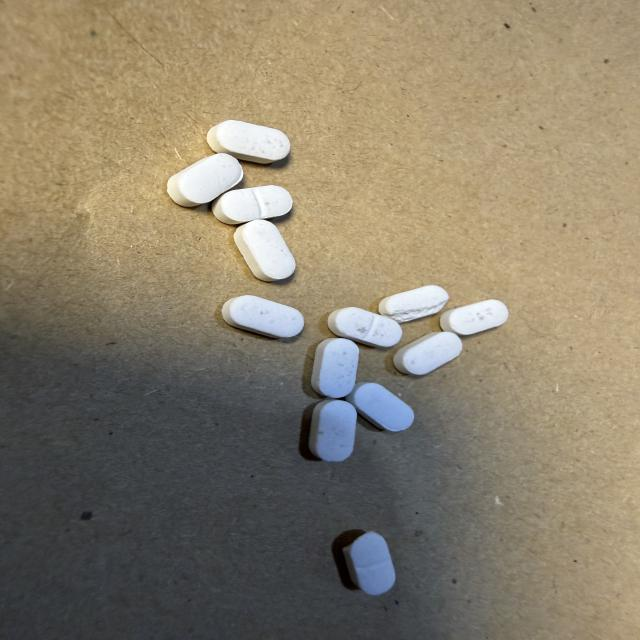pill: (167, 154, 242, 206), (234, 220, 295, 281), (207, 120, 290, 163), (222, 295, 304, 337), (343, 532, 395, 595), (346, 383, 414, 431), (212, 186, 292, 224), (394, 332, 462, 375), (309, 399, 356, 461), (312, 338, 359, 398), (328, 308, 402, 346), (379, 286, 448, 322), (440, 300, 508, 335)
